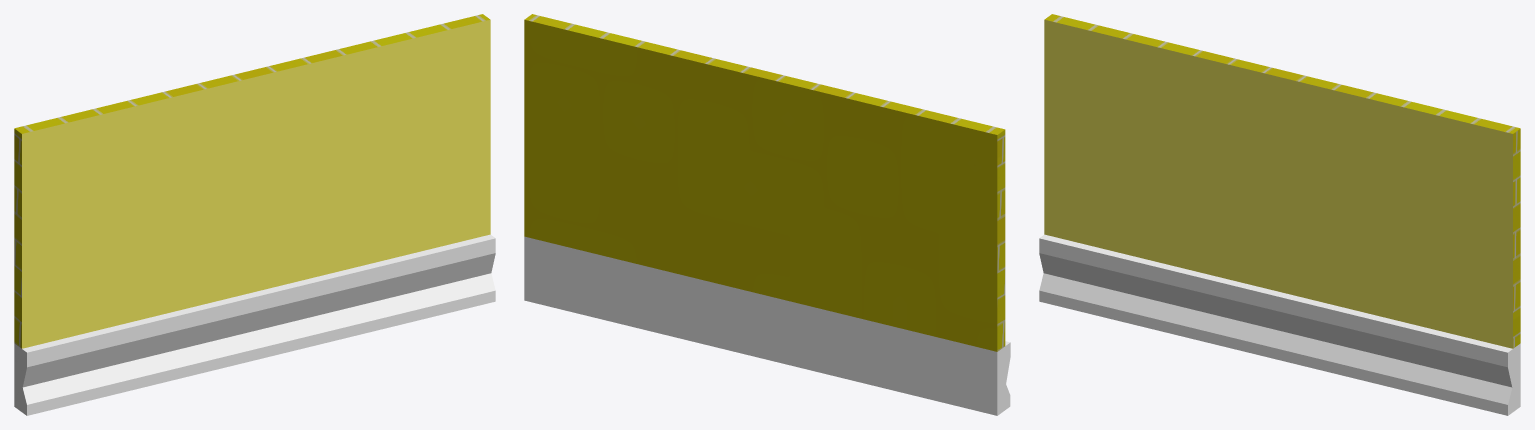
Rendered from WALL_final.fbx.
The picture shows the model from 3 angles, left to right: view 1: azimuth 30°, elevation 25°; view 2: azimuth 150°, elevation 25°; view 3: azimuth 330°, elevation 25°; orthographic projection.
Visible parts, largest first — view 1: WALL1; view 2: WALL1; view 3: WALL1.
Part boxes in pixels (x1,y1,x2,y2): WALL1: (14,14,495,415); WALL1: (524,14,1010,415); WALL1: (1039,14,1520,415).
Size of the model in its own units: 4066 by 2307 by 195.
